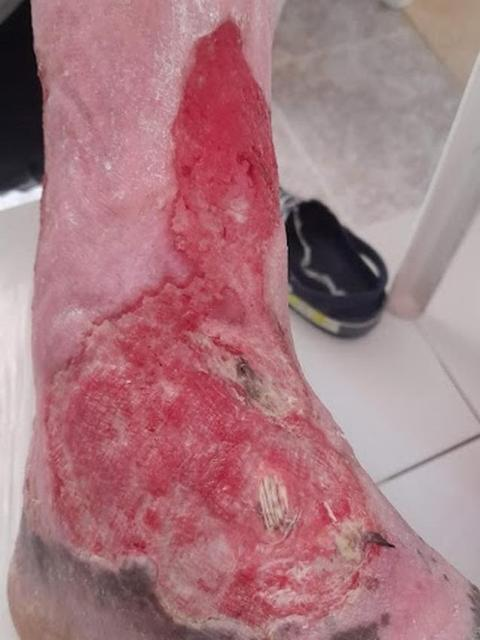wound: (43, 15, 388, 630)
